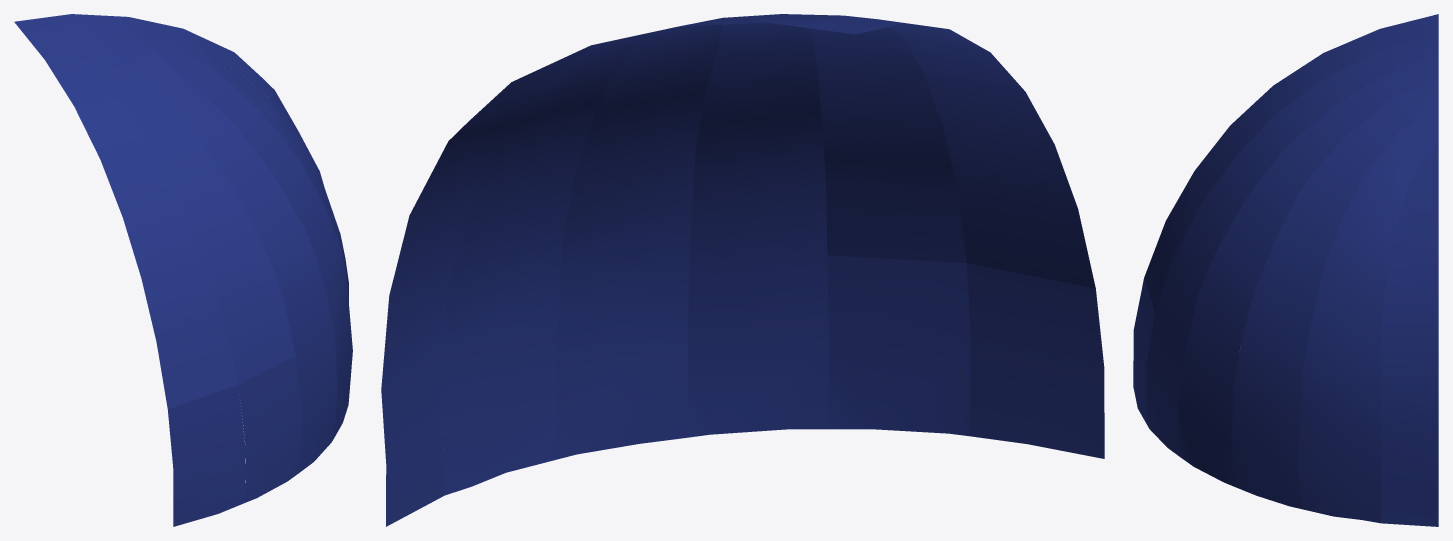
Rendered from Back_right_helm_3_#.fbx.
3 renders of one model, left to right at view 1: azimuth 30°, elevation 25°; view 2: azimuth 150°, elevation 25°; view 3: azimuth 270°, elevation 25°, orthographic. The views are drawn at different scales.
Visible parts, largest first — view 1: Back_right_helm_3_1, Back_right_helm_3_3, Back_right_helm_3_5, Back_right_helm_3_6, Back_right_helm_3_2, Back_right_helm_3_4, Back_right_helm_3_7, Back_right_helm_3_8; view 2: Back_right_helm_3_5, Back_right_helm_3_6, Back_right_helm_3_7, Back_right_helm_3_3, Back_right_helm_3_1, Back_right_helm_3_8, Back_right_helm_3_4, Back_right_helm_3_2; view 3: Back_right_helm_3_7, Back_right_helm_3_6, Back_right_helm_3_5, Back_right_helm_3_8, Back_right_helm_3_3, Back_right_helm_3_1, Back_right_helm_3_4, Back_right_helm_3_2.
Boxes of the visible parts, <box> form: Back_right_helm_3_1: <box>14,17,238,409</box>; Back_right_helm_3_3: <box>48,14,295,384</box>; Back_right_helm_3_5: <box>81,14,337,471</box>; Back_right_helm_3_6: <box>111,16,352,435</box>; Back_right_helm_3_2: <box>168,385,246,526</box>; Back_right_helm_3_4: <box>239,356,302,502</box>; Back_right_helm_3_7: <box>143,20,348,302</box>; Back_right_helm_3_8: <box>184,29,297,129</box>; Back_right_helm_3_5: <box>688,14,828,437</box>; Back_right_helm_3_6: <box>556,18,722,459</box>; Back_right_helm_3_7: <box>442,31,654,495</box>; Back_right_helm_3_3: <box>752,14,966,263</box>; Back_right_helm_3_1: <box>803,15,1095,288</box>; Back_right_helm_3_8: <box>381,45,590,526</box>; Back_right_helm_3_4: <box>827,255,971,436</box>; Back_right_helm_3_2: <box>967,263,1104,458</box>; Back_right_helm_3_7: <box>1297,102,1438,523</box>; Back_right_helm_3_6: <box>1231,77,1438,508</box>; Back_right_helm_3_5: <box>1178,54,1438,486</box>; Back_right_helm_3_8: <box>1381,140,1438,526</box>; Back_right_helm_3_3: <box>1155,33,1438,346</box>; Back_right_helm_3_1: <box>1144,14,1438,311</box>; Back_right_helm_3_4: <box>1146,312,1185,456</box>; Back_right_helm_3_2: <box>1133,278,1154,422</box>.
Bounding box in the file's own units: 9.23 × 11.28 × 8.39.
